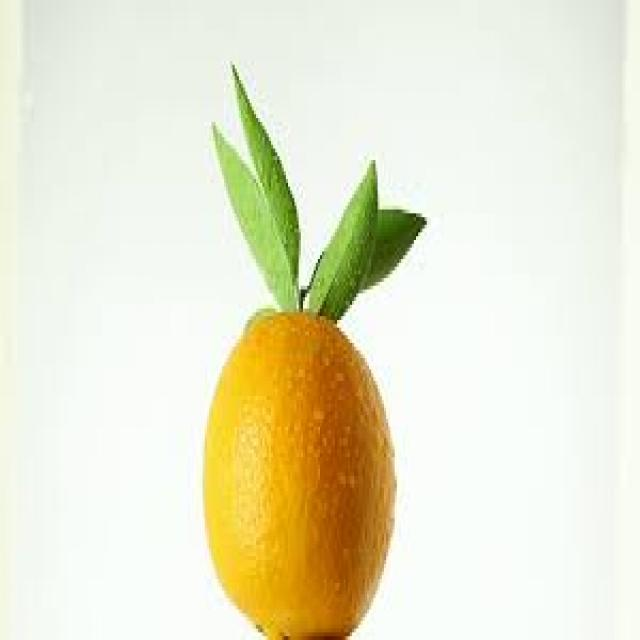organic waste: (198, 305, 395, 636), (226, 61, 299, 309), (207, 115, 294, 312), (298, 156, 376, 328), (314, 210, 424, 320)
